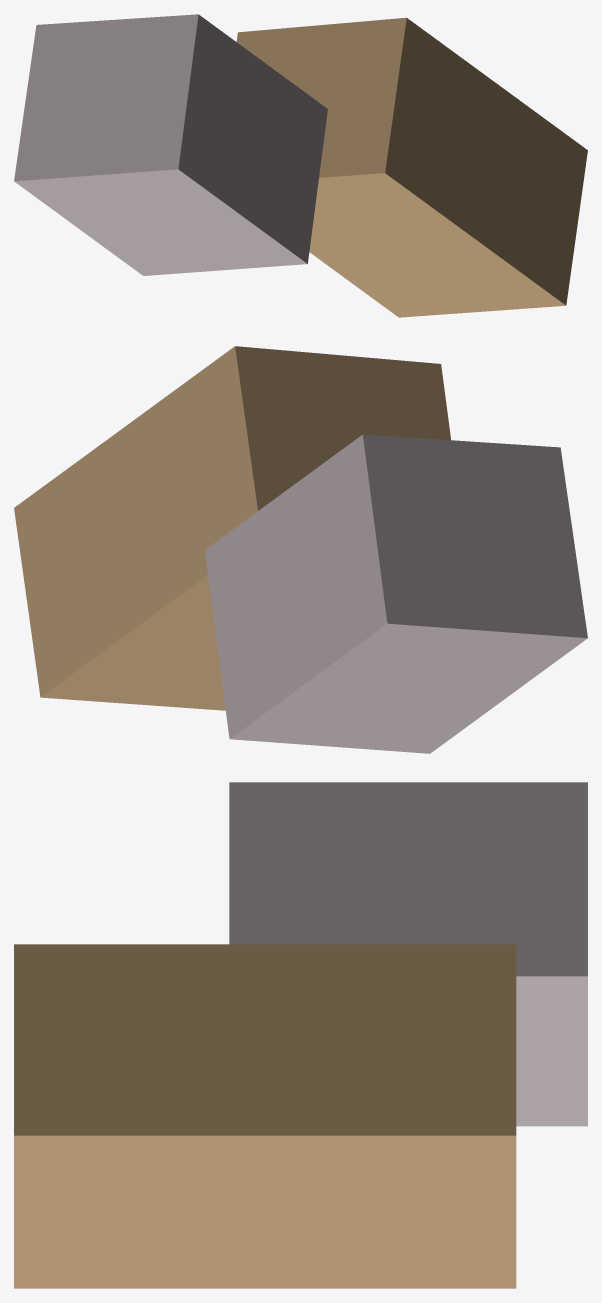
3 renders of one model, top to bottom at view 1: azimuth 30°, elevation 25°; view 2: azimuth 150°, elevation 25°; view 3: azimuth 270°, elevation 25°, orthographic. The views are drawn at different scales.
Parts seen in each view (by area): view 1: 0_0_3_2_0_0_1_1_0_0; view 2: 0_0_3_2_0_0_1_1_0_0; view 3: 0_0_3_2_0_0_1_1_0_0.
Boxes of the visible parts, x1,y1,x2,y2 form: 0_0_3_2_0_0_1_1_0_0: (14, 14, 587, 317); 0_0_3_2_0_0_1_1_0_0: (14, 346, 587, 753); 0_0_3_2_0_0_1_1_0_0: (14, 782, 587, 1288).
Size of the model in its own units: 24.55 by 13.3 by 24.
